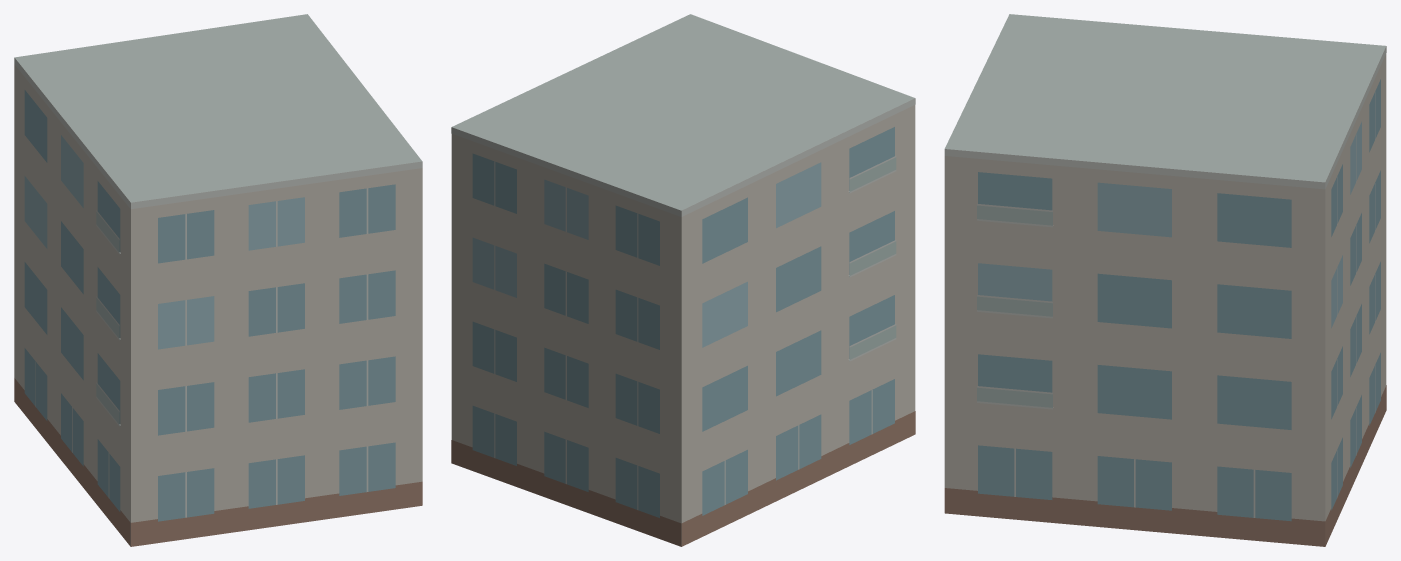
File: survey-upis-32663578.glb
3 views of the same model, side by side, from view 1: azimuth 30°, elevation 25°; view 2: azimuth 150°, elevation 25°; view 3: azimuth 270°, elevation 25° (orthographic). The views are drawn at different scales.
Parts seen in each view (by area): view 1: survey-upis-32663578.tmp; view 2: survey-upis-32663578.tmp; view 3: survey-upis-32663578.tmp.
Part boxes in pixels (left/top/right/bottom): survey-upis-32663578.tmp: left=14, top=14, right=422, bottom=546; survey-upis-32663578.tmp: left=451, top=14, right=915, bottom=546; survey-upis-32663578.tmp: left=944, top=14, right=1386, bottom=546.
Bounding box in the file's own units: 12.7 × 12.8 × 14.08.
